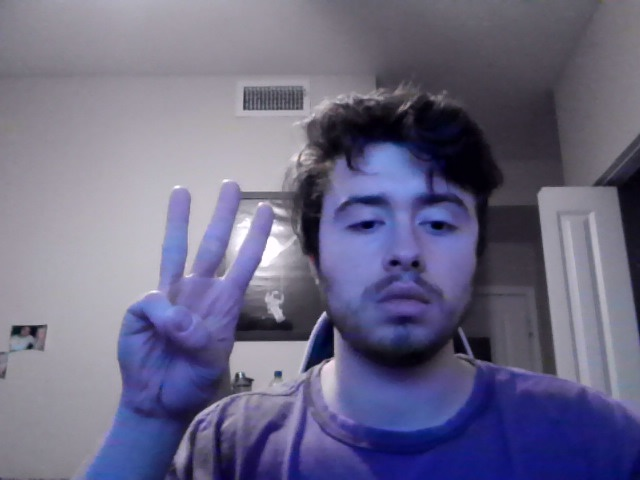w: (116, 179, 275, 446)
